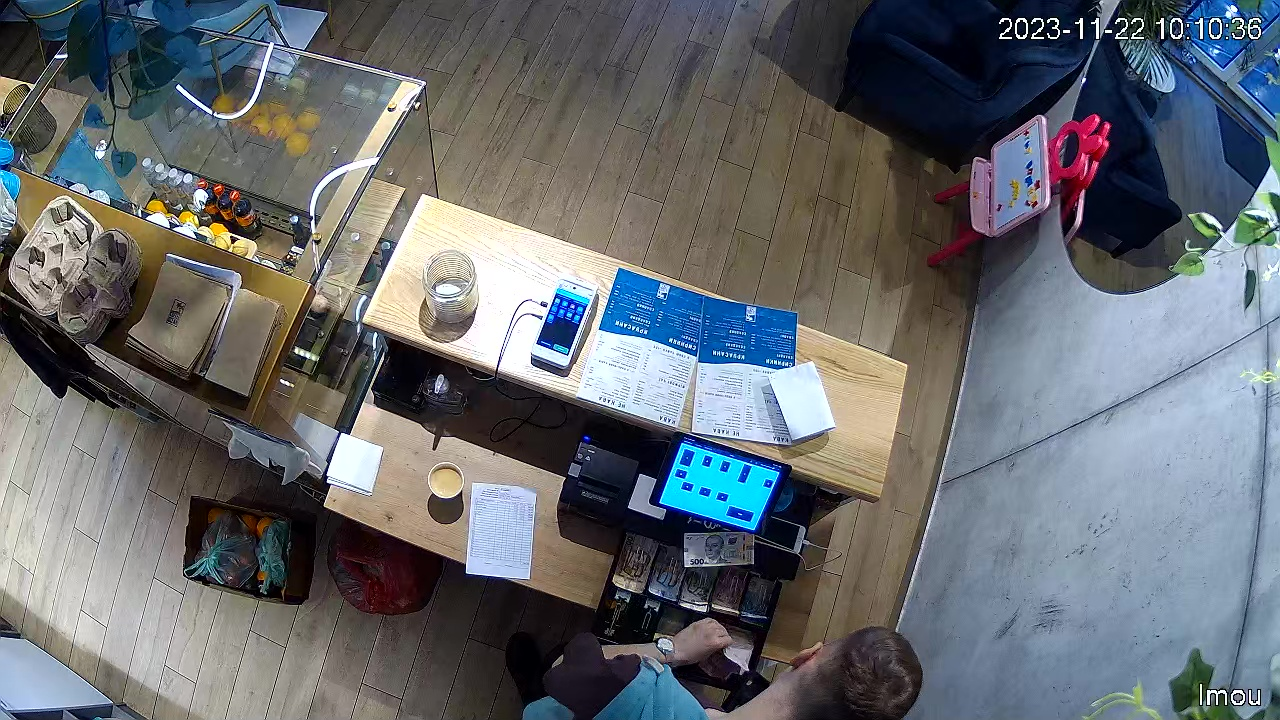openedcash: (577, 513, 805, 691)
